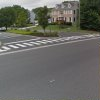crosswalk: (0, 34, 93, 52)
